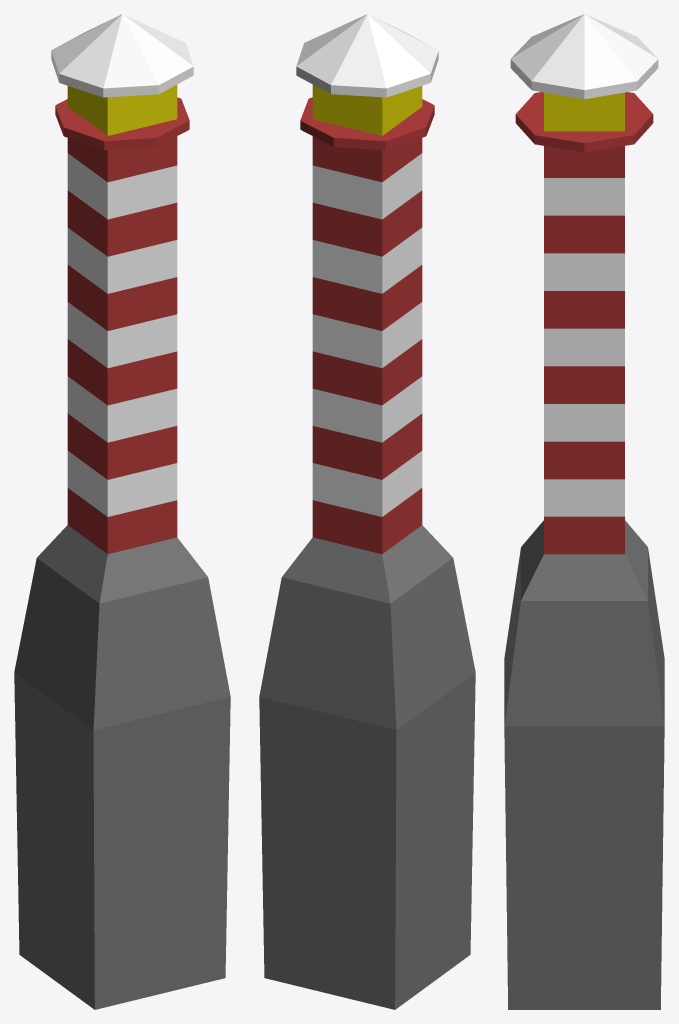
File: LightHouseObj.fbx
3 renders of one model, left to right at view 1: azimuth 30°, elevation 25°; view 2: azimuth 150°, elevation 25°; view 3: azimuth 270°, elevation 25°, orthographic.
Parts seen in each view (by area): view 1: Lighthouse; view 2: Lighthouse; view 3: Lighthouse.
Boxes of the visible parts, x1=… form: Lighthouse: x1=14, y1=14, x2=230, y2=1009; Lighthouse: x1=259, y1=14, x2=475, y2=1009; Lighthouse: x1=504, y1=14, x2=664, y2=1009.
Size of the model in its own units: 1580 by 10477 by 1580.
